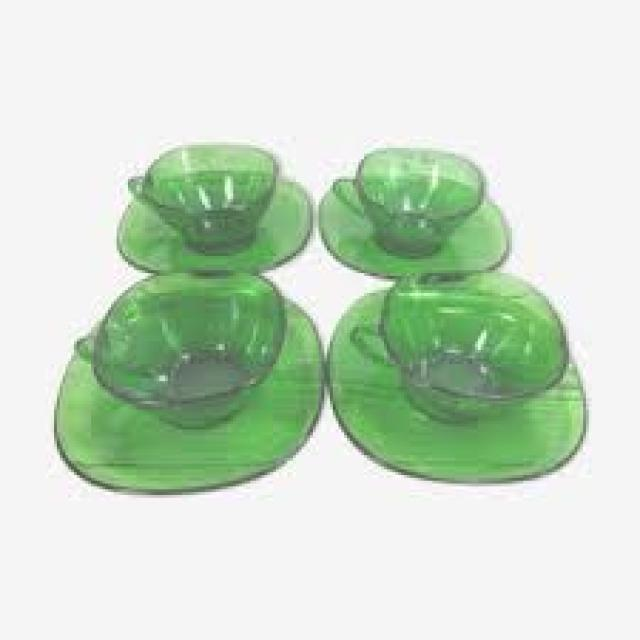glass: (324, 279, 583, 481), (51, 296, 319, 489), (74, 265, 282, 427), (347, 267, 563, 421), (117, 168, 310, 276), (319, 173, 506, 276), (330, 142, 481, 259), (125, 142, 276, 253)
